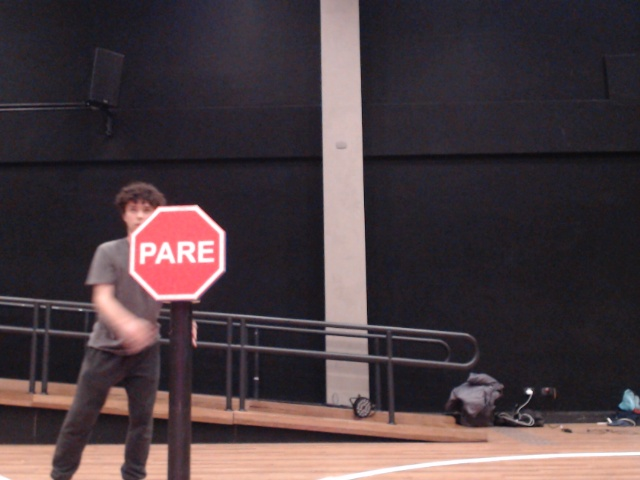SEMAFORO: (112, 192, 256, 324)
